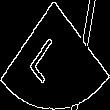L_NE: (35, 26, 75, 84)
